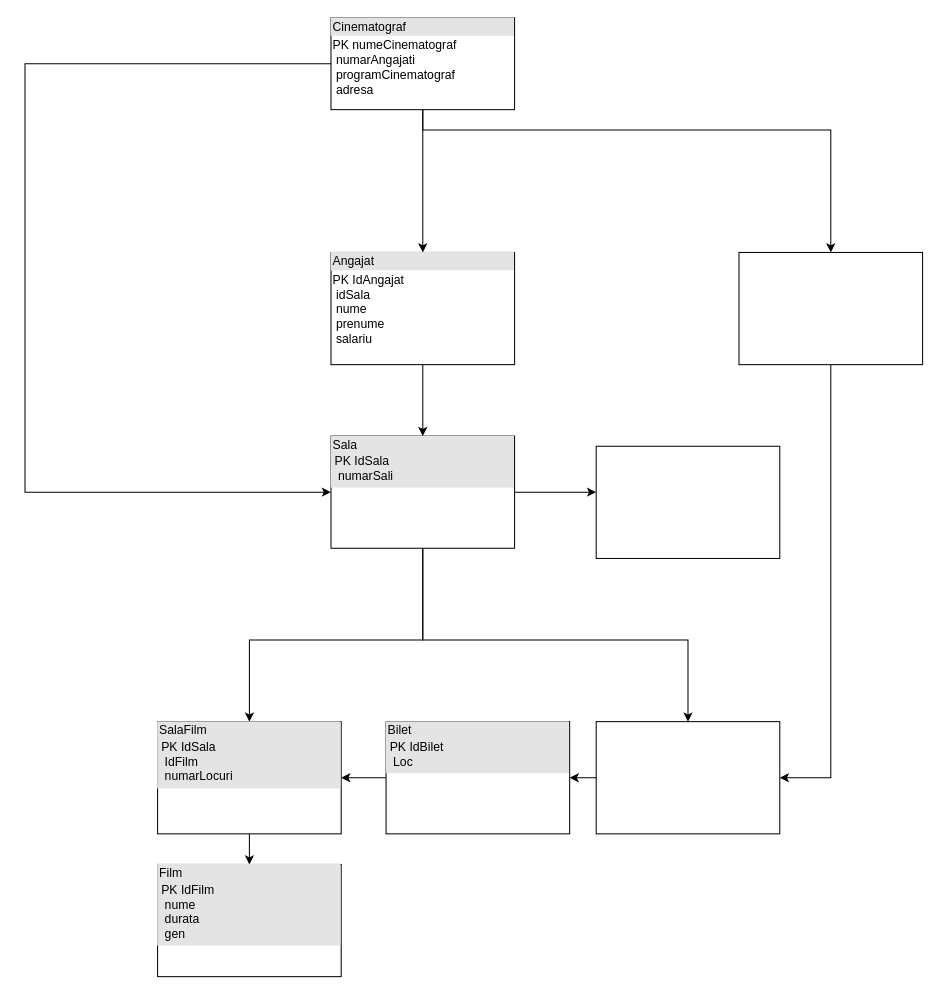
This 940x995 diagram has some shape labels left out. Each missing label, with the box of its shape:
CasaDeBilete PK IdSala idBilet numarBilete: (595, 721, 780, 834)
Client PK IdClient IdSalaFilm nume prenume reducere: (738, 251, 923, 365)
Magazin PK IdSala numarCutiiPopcorc numarSticleSuc: (595, 445, 780, 558)
